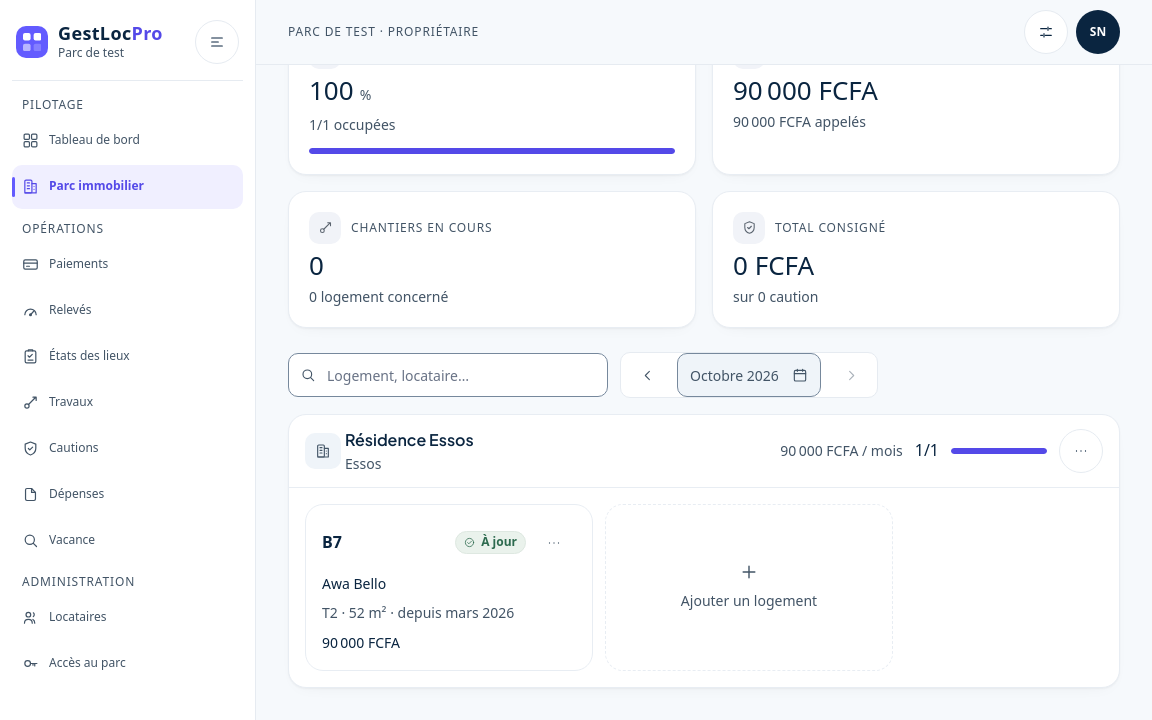
Test: le parc mène au dossier › ouvre le dossier depuis un lien nommé par sa destination
(page scrolled)
Click the link named "Ouvrir le dossier du logement B7": (332, 542) [322,531,342,553]
(page scrolled)
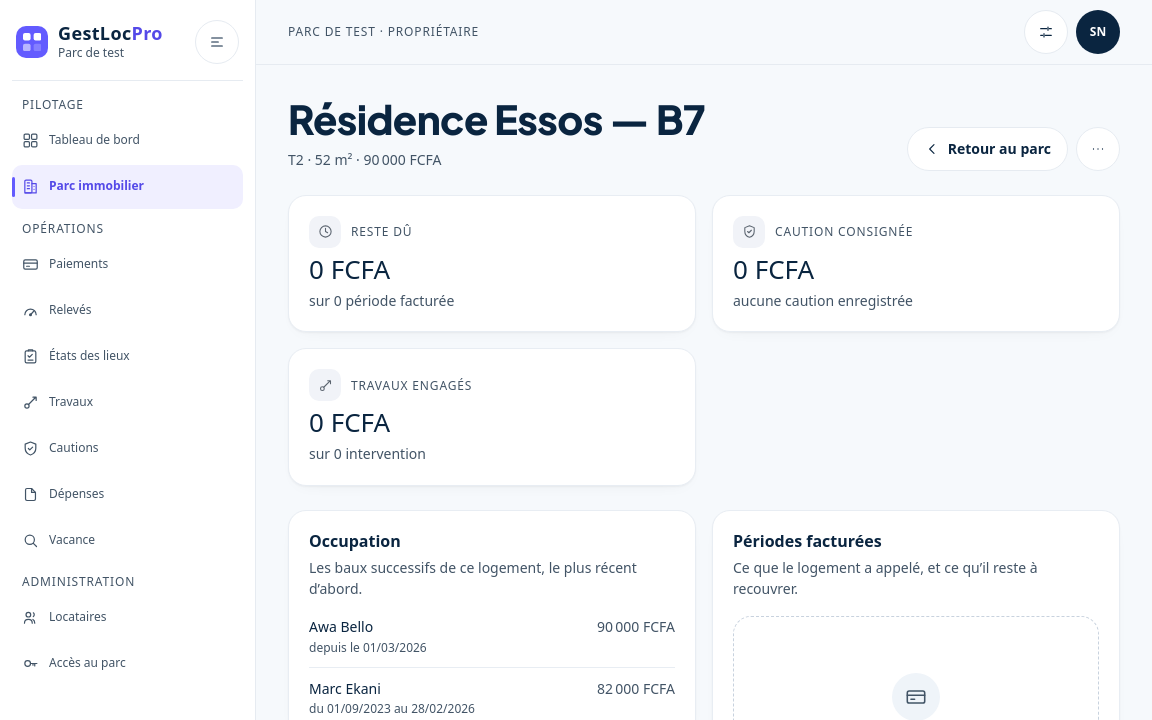
Check: the heading "Résidence Essos — B7" is shown, box [288,93,705,144]
